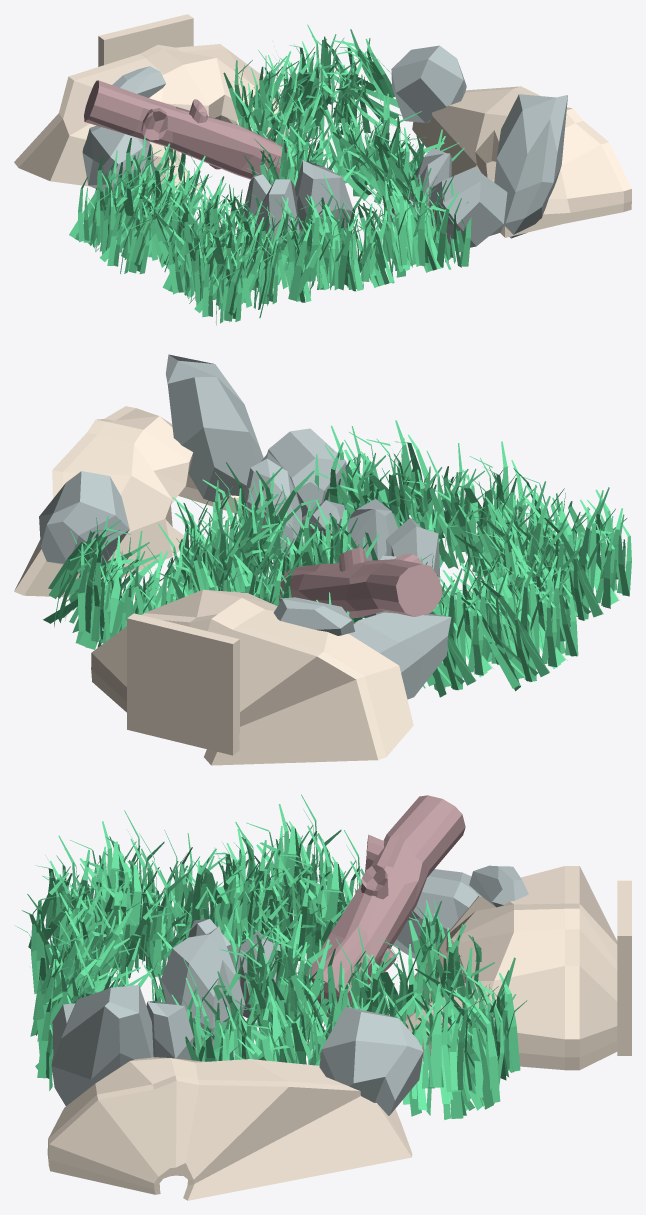
The model's file is 042820map1ShadowCasters02.gltf.
3 renders of one model, top to bottom at view 1: azimuth 30°, elevation 25°; view 2: azimuth 150°, elevation 25°; view 3: azimuth 270°, elevation 25°, orthographic. The views are drawn at different scales.
Parts seen in each view (by area): view 1: Cube.005, Cube.020, Cube.003, Cube.022, Cube.021, Cube.009, Cube.007, Cube.004, Cube.001, Cube, Cube.010, Cube.008 (+5 smaller); view 2: Cube.005, Cube.020, Cube.007, Cube.022, Cube.003, Cube.021, Cube.004, Cube.009, Cube.010, Cube.008, Cube.001, Cube (+3 smaller); view 3: Cube.020, Cube.005, Cube.003, Cube.022, Cube.021, Cube.001, Cube.004, Cube.007, Cube.010, Cube.008, Cube.002, Plane.571 (+3 smaller).
Part boxes in pixels (x1,y1,x2,y2): Cube.005: (14, 44, 289, 192); Cube.020: (412, 86, 631, 237); Cube.003: (84, 80, 292, 183); Cube.022: (494, 94, 567, 238); Cube.021: (391, 45, 466, 122); Cube.009: (428, 167, 507, 247); Cube.007: (98, 14, 193, 66); Cube.004: (82, 125, 154, 191); Cube.001: (295, 160, 352, 234); Cube: (254, 179, 300, 252); Cube.010: (410, 148, 451, 205); Cube.008: (112, 66, 165, 97); Cube.005: (91, 589, 413, 765); Cube.020: (14, 406, 242, 597); Cube.007: (127, 613, 239, 755); Cube.022: (165, 354, 263, 501); Cube.003: (279, 547, 442, 618); Cube.021: (39, 471, 129, 574); Cube.004: (349, 612, 451, 699); Cube.009: (267, 428, 346, 517); Cube.010: (244, 452, 302, 559); Cube.008: (273, 597, 354, 635); Cube.001: (347, 499, 397, 560); Cube: (386, 518, 440, 581); Cube.020: (47, 1057, 412, 1200); Cube.005: (402, 866, 617, 1070); Cube.003: (304, 795, 465, 1017); Cube.022: (51, 985, 153, 1105); Cube.021: (319, 1006, 423, 1115); Cube.001: (161, 926, 245, 1053); Cube.004: (393, 869, 478, 958); Cube.007: (617, 880, 631, 1055); Cube.010: (146, 1001, 193, 1059); Cube.008: (469, 865, 528, 907); Cube.002: (236, 931, 281, 1018); Plane.571: (429, 984, 441, 1087).
Bounding box in the file's own units: 94.14 × 27.21 × 84.3.
